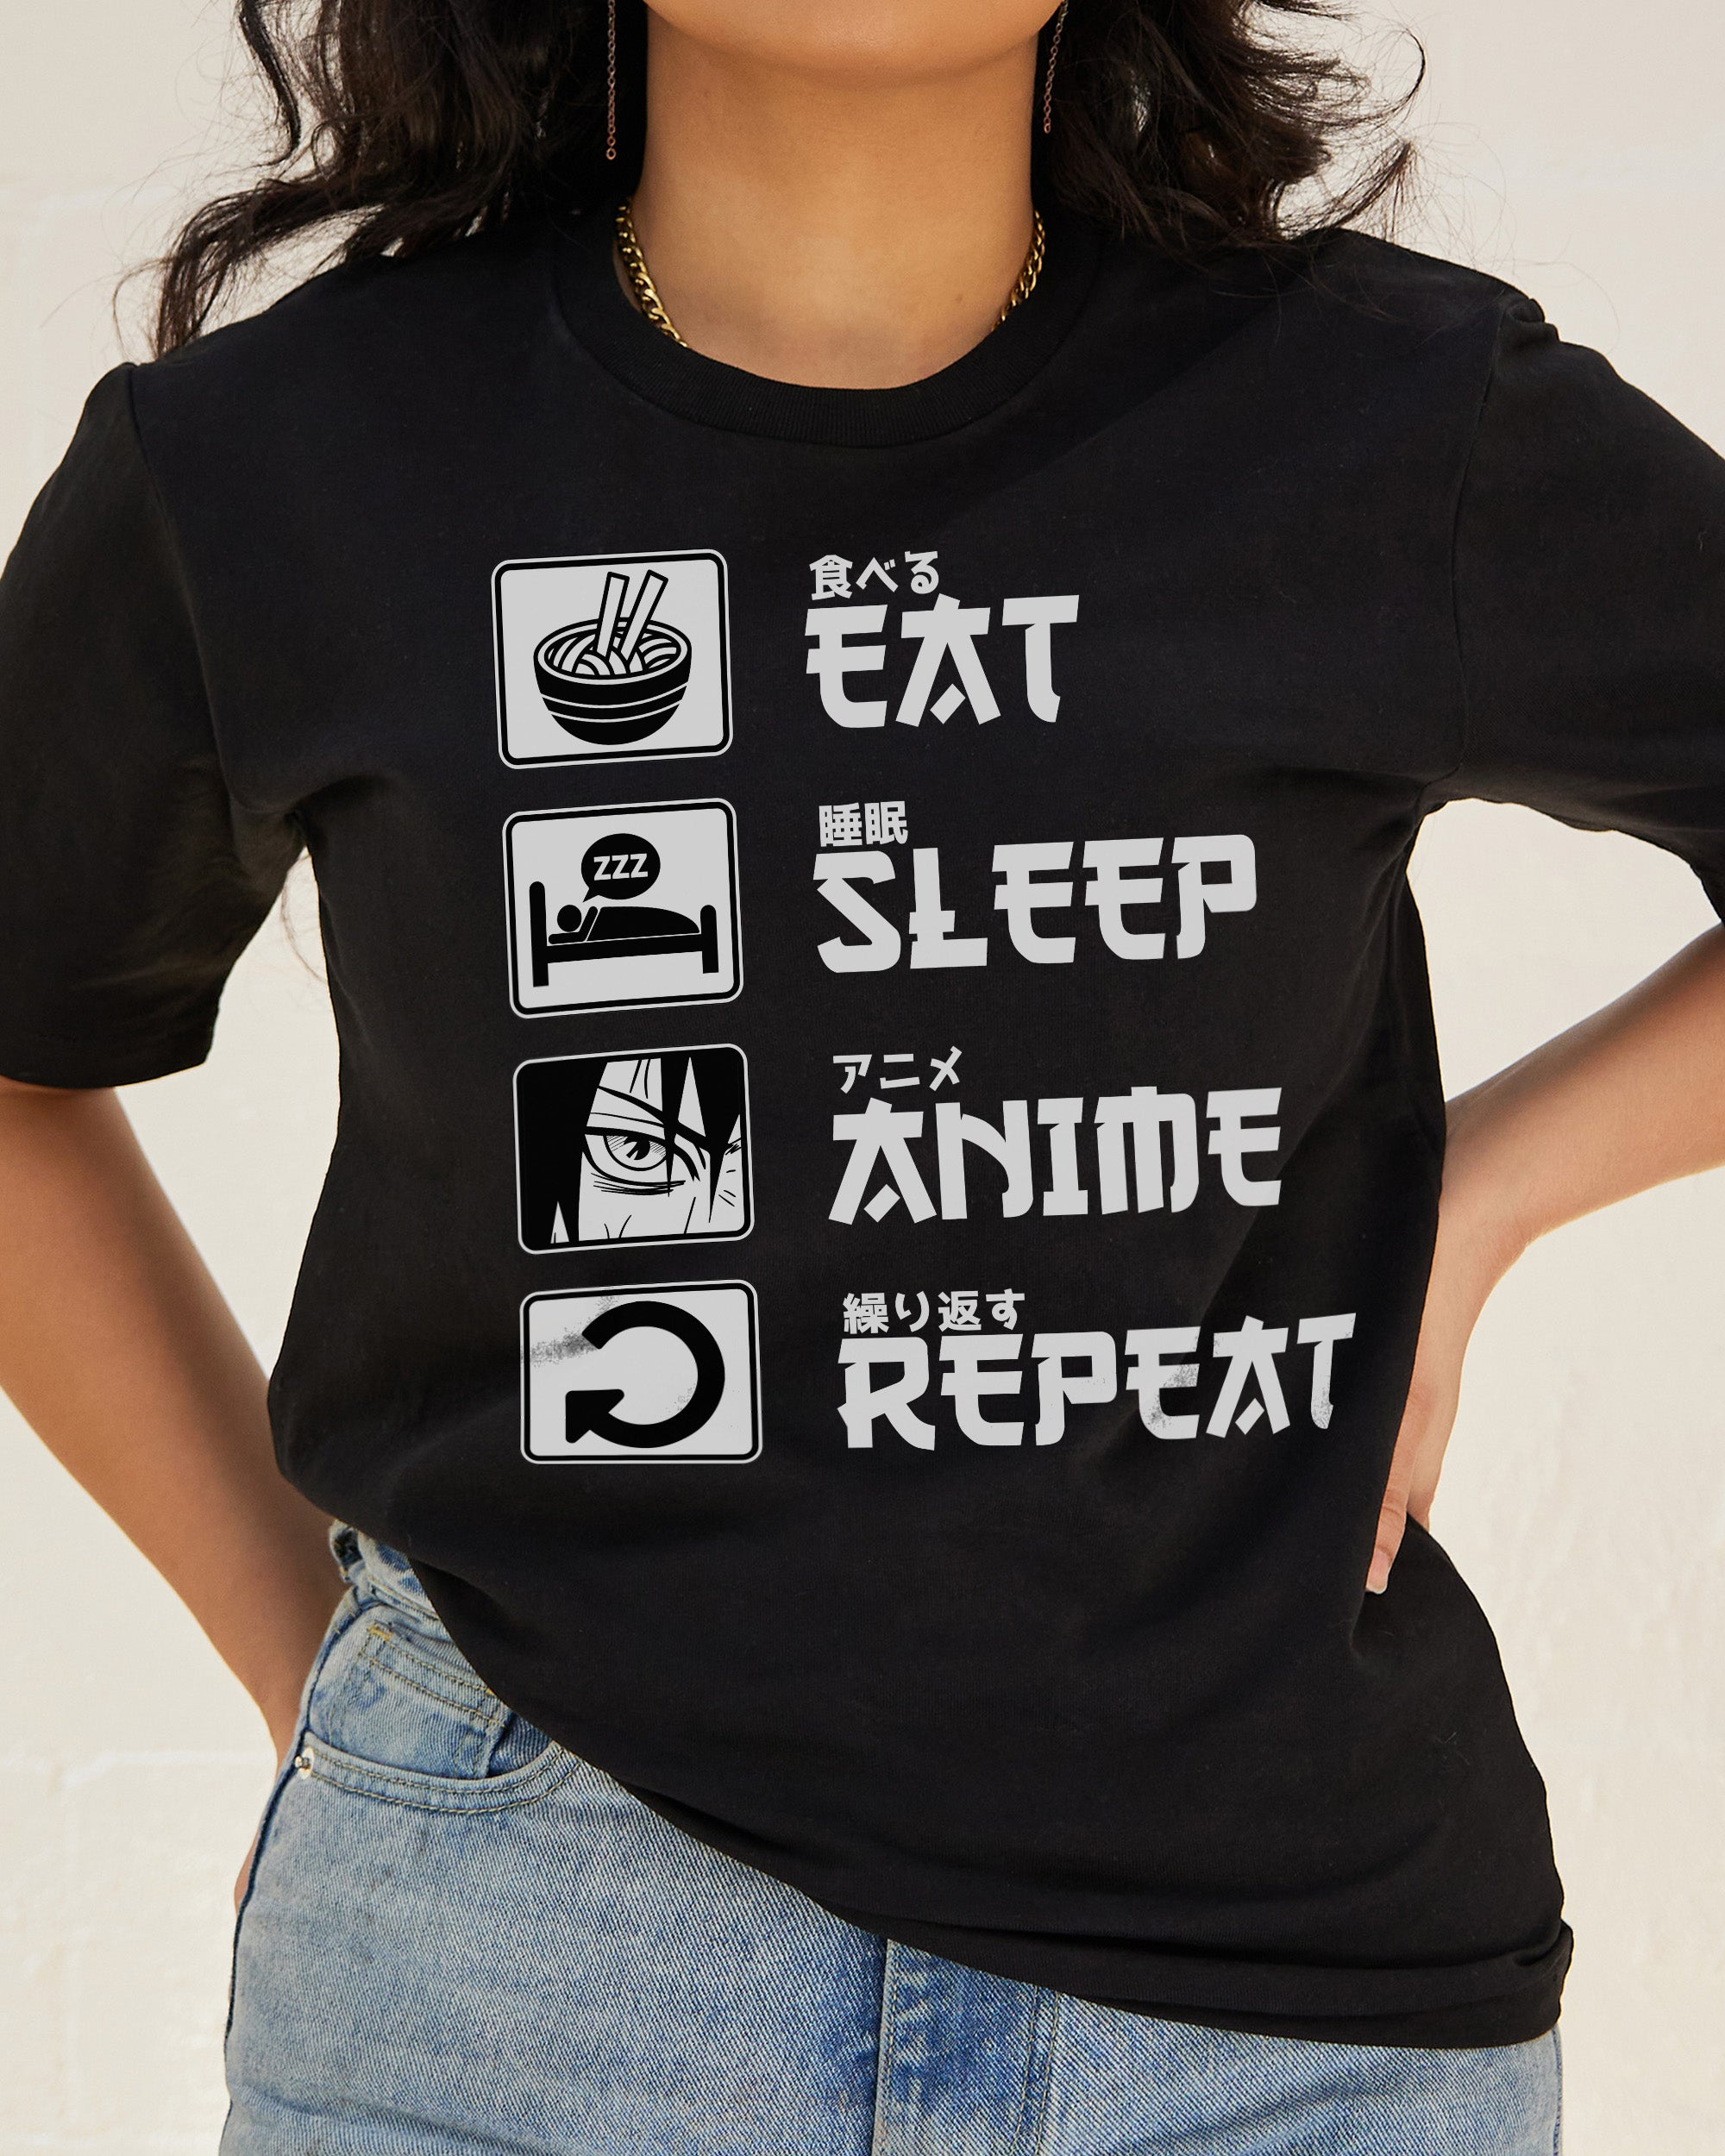design: (479, 532, 1369, 1477)
